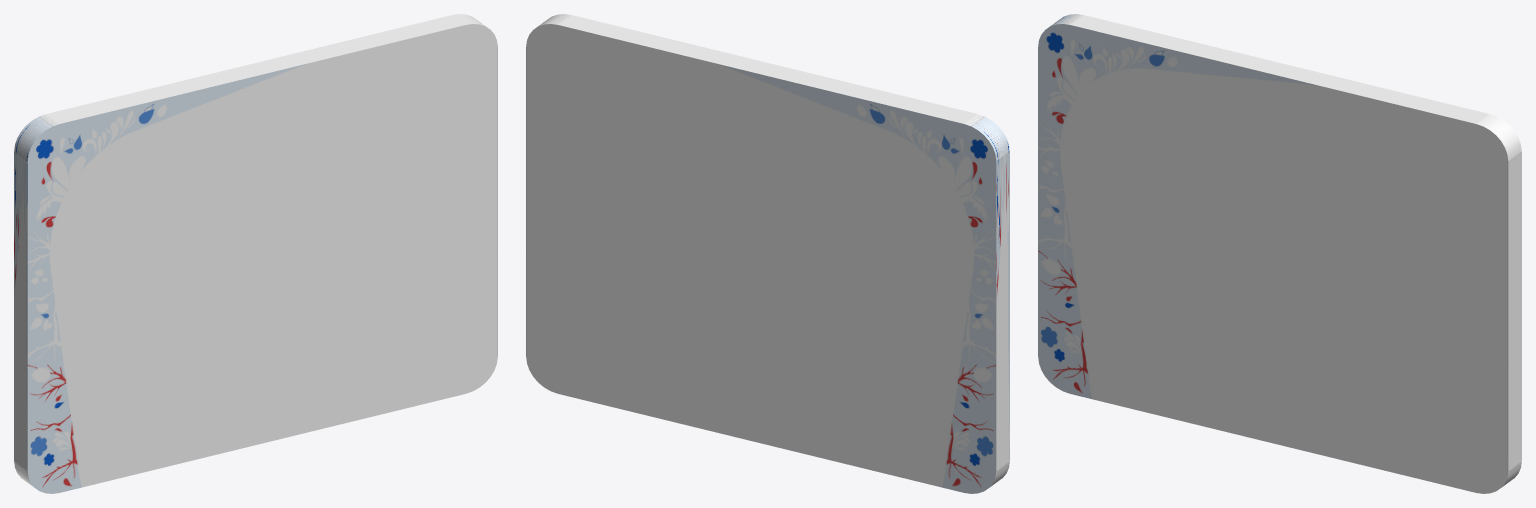
The model's file is marco_nuevo.FBX.
3 views of the same model, side by side, from view 1: azimuth 30°, elevation 25°; view 2: azimuth 150°, elevation 25°; view 3: azimuth 330°, elevation 25° (orthographic).
Visible parts, largest first — view 1: perfil_tarjeta; view 2: perfil_tarjeta; view 3: perfil_tarjeta.
Boxes of the visible parts, x1,y1,x2,y2 form: perfil_tarjeta: [14, 14, 497, 493]; perfil_tarjeta: [526, 14, 1009, 493]; perfil_tarjeta: [1038, 14, 1521, 493].
Size of the model in its own units: 25.02 by 18.76 by 1.25.
1 material, 1 textured.
